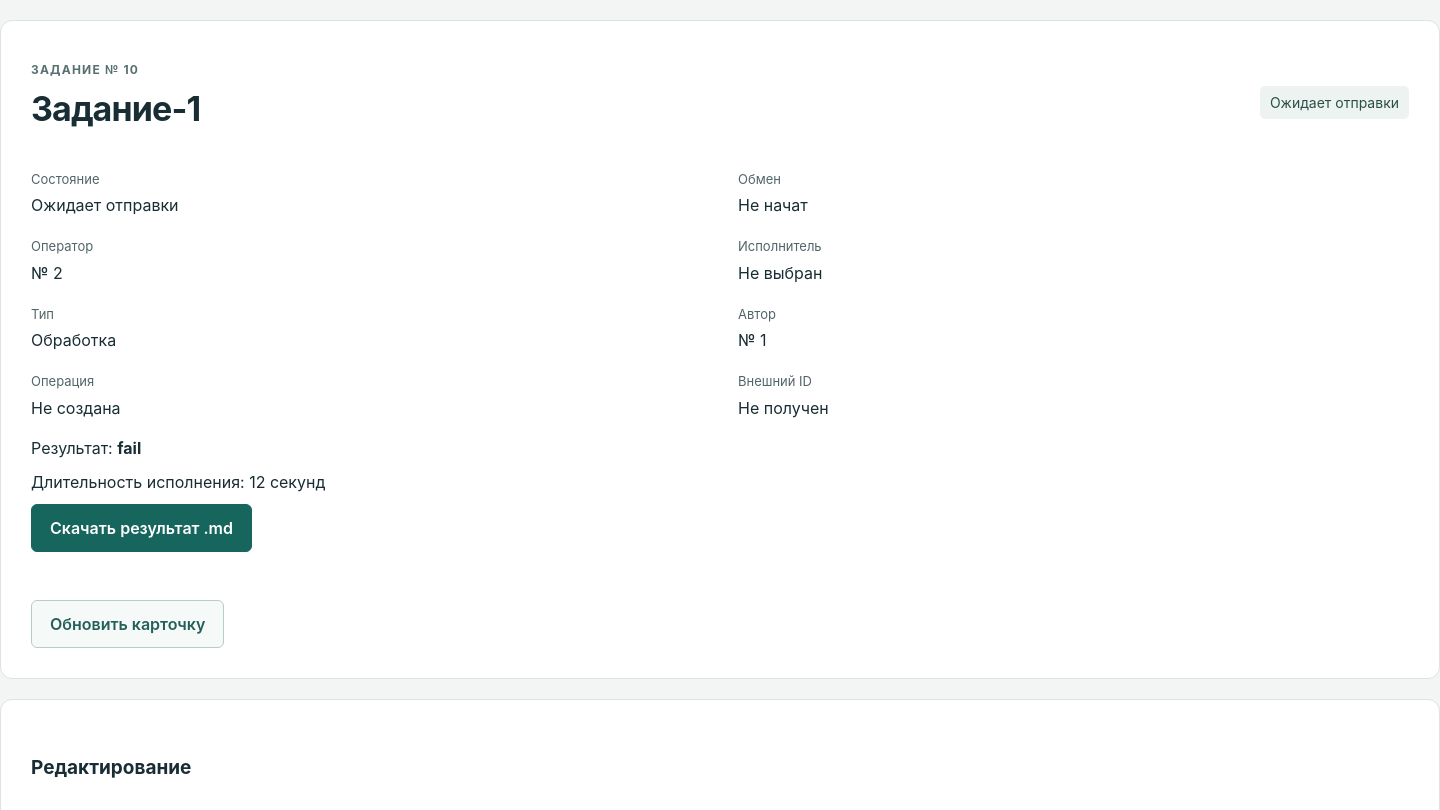
Test: Карточка и серверные действия › не использует отдельный обход API для файлов
What coordinates should you click on to do the following:
click the button "Скачать результат .md"
I would click on:
 (142, 528)
Its box is 31,504 -> 252,552.
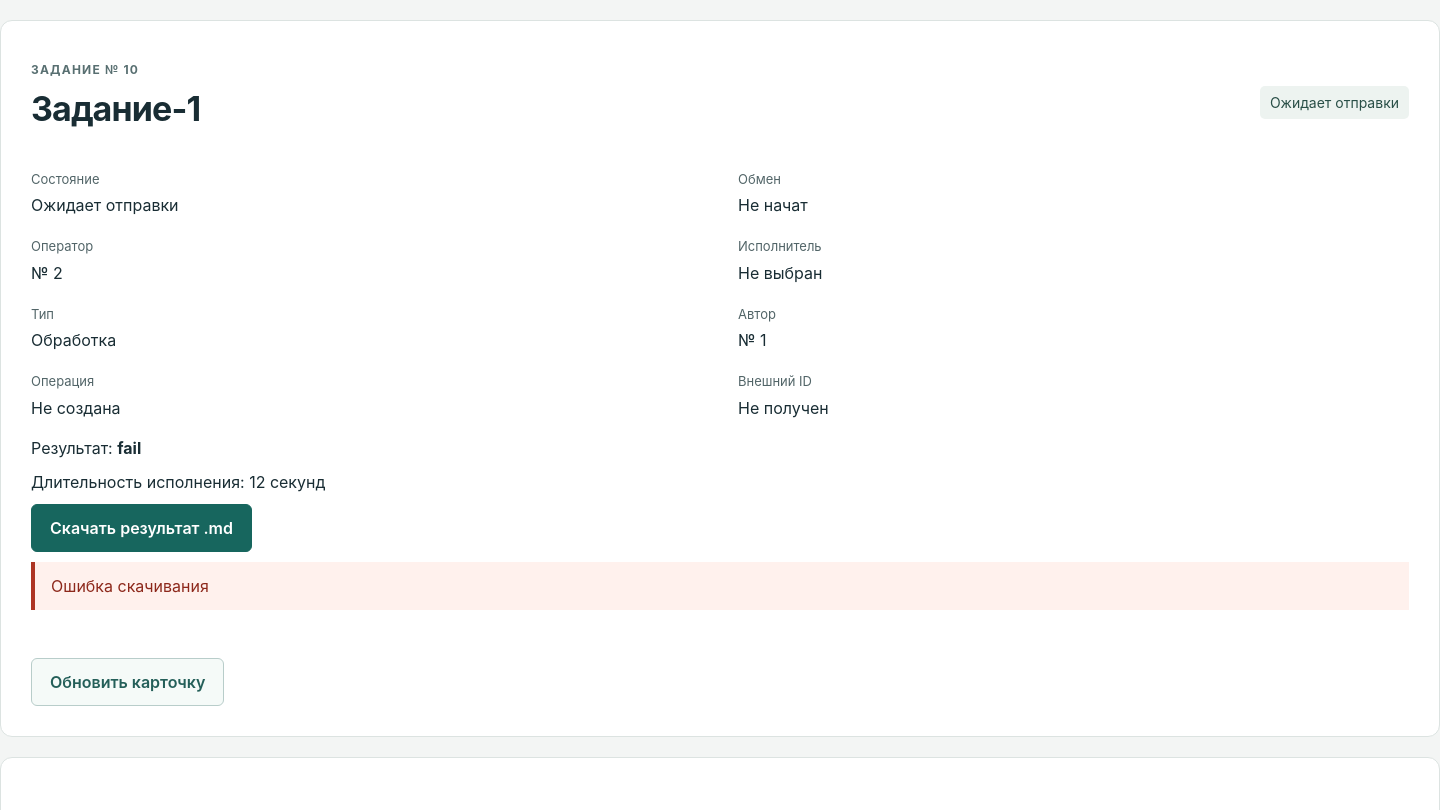
expect the message reads "Ошибка скачивания": met, box 51,576 -> 209,596
